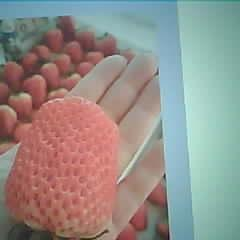straw-ripe: (8, 99, 118, 237)
